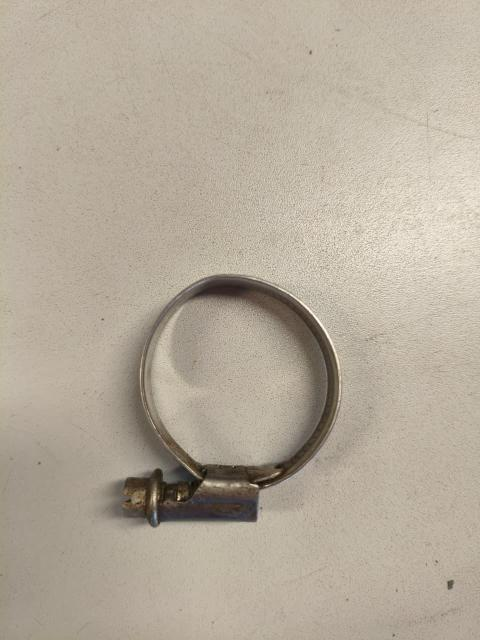Metal: (112, 267, 343, 533)
